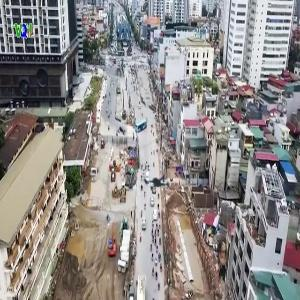drone: (133, 158, 184, 209)
